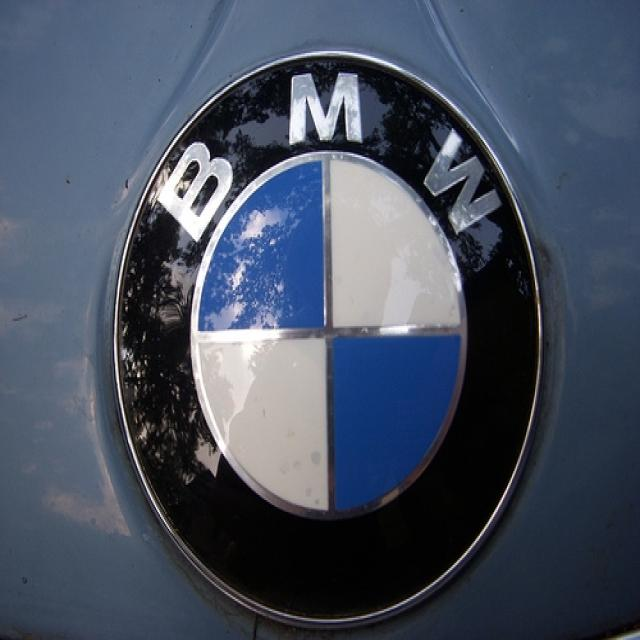bmw: (102, 39, 558, 639)
